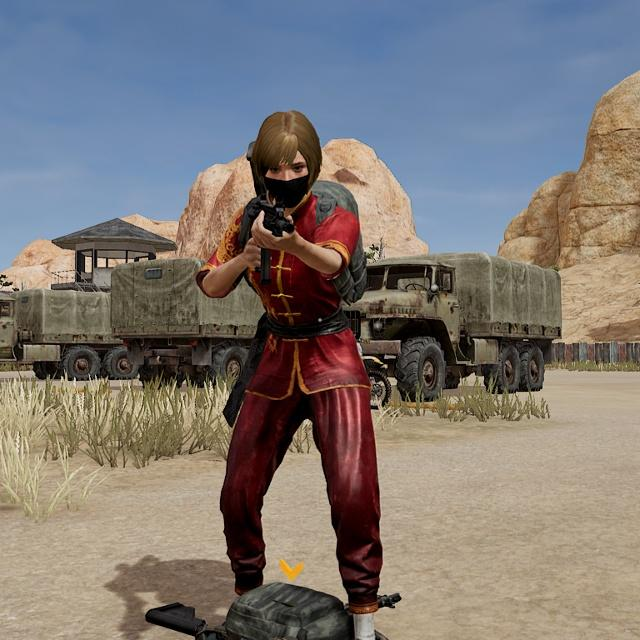head: (239, 106, 326, 214)
people: (185, 104, 411, 640)
